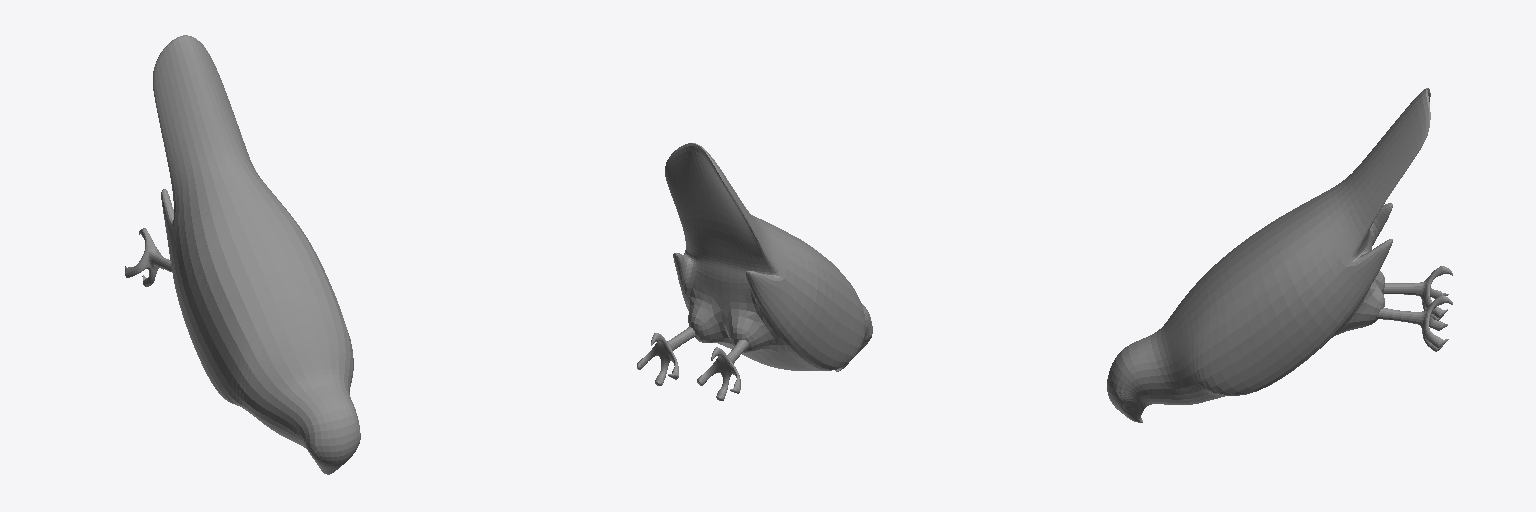
The model's file is 10025_Hawk_v1_iterations-2.obj.
The picture shows the model from 3 angles: view 1: azimuth 30°, elevation 25°; view 2: azimuth 150°, elevation 25°; view 3: azimuth 270°, elevation 25°; orthographic projection.
Visible parts, largest first — view 1: hawk; view 2: hawk; view 3: hawk.
Part boxes in pixels (left/top/right/bottom): hawk: left=125, top=35, right=360, bottom=474; hawk: left=637, top=143, right=872, bottom=400; hawk: left=1107, top=88, right=1452, bottom=422.
Size of the model in its own units: 13.13 by 33.18 by 31.3.